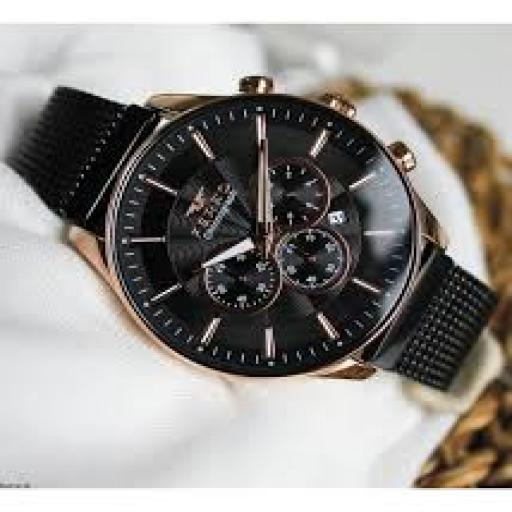KolSaati: (15, 54, 473, 419)
